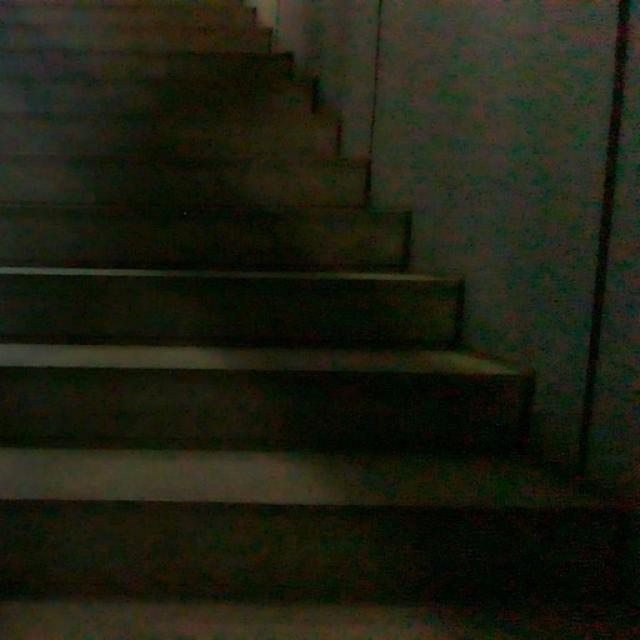stair: (0, 0, 598, 614)
